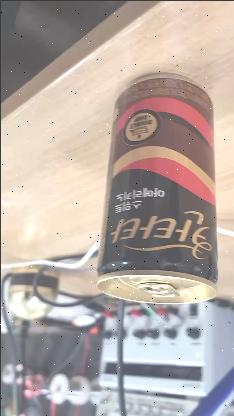Can: (94, 74, 218, 306)
